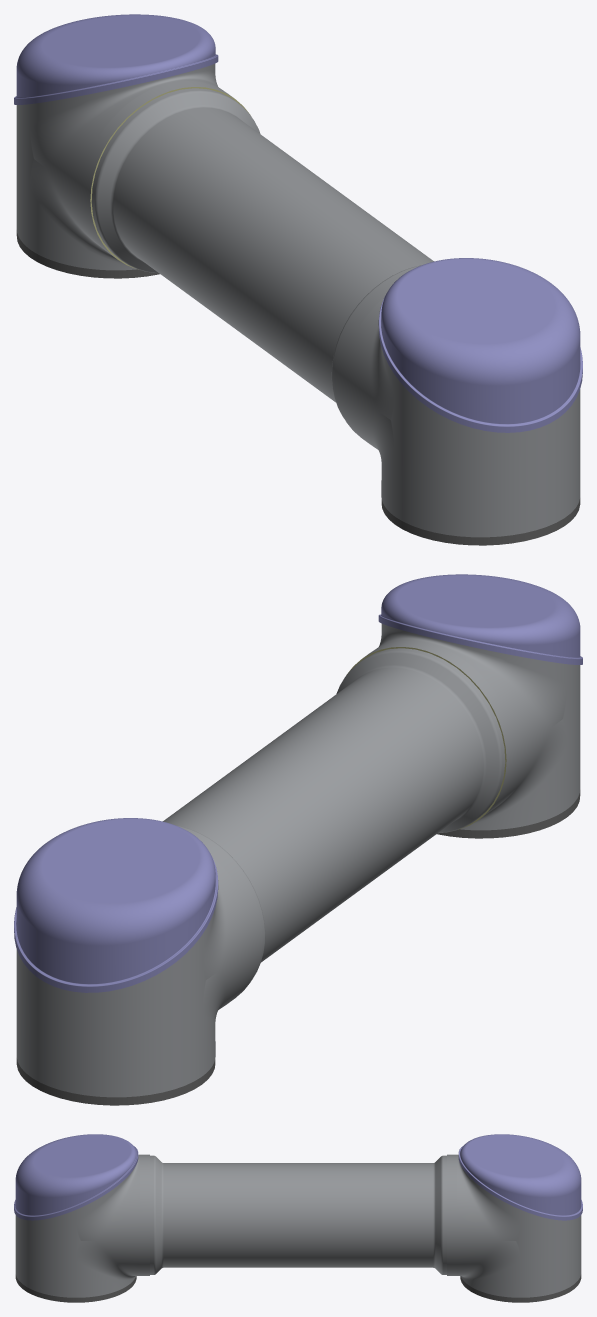
Rendered from UpperArm.fbx.
3 views of the same model, one above another, from view 1: azimuth 30°, elevation 25°; view 2: azimuth 150°, elevation 25°; view 3: azimuth 270°, elevation 25° (orthographic). The views are drawn at different scales.
Parts seen in each view (by area): view 1: Actor3, Actor0, Actor4, Actor2, Actor1; view 2: Actor3, Actor2, Actor1, Actor0, Actor4; view 3: Actor3, Actor0, Actor2, Actor4, Actor1.
Part boxes in pixels (x1=…): Actor3: x1=91, y1=88, x2=433, y2=418; Actor0: x1=334, y1=272, x2=580, y2=545; Actor4: x1=378, y1=258, x2=582, y2=432; Actor2: x1=16, y1=64, x2=250, y2=278; Actor1: x1=14, y1=14, x2=218, y2=104; Actor3: x1=163, y1=648, x2=505, y2=979; Actor2: x1=16, y1=832, x2=262, y2=1105; Actor1: x1=14, y1=818, x2=218, y2=992; Actor0: x1=346, y1=624, x2=580, y2=838; Actor4: x1=378, y1=574, x2=582, y2=664; Actor3: x1=150, y1=1155, x2=446, y2=1274; Actor0: x1=15, y1=1154, x2=149, y2=1302; Actor2: x1=447, y1=1154, x2=581, y2=1302; Actor4: x1=14, y1=1134, x2=138, y2=1220; Actor1: x1=458, y1=1134, x2=582, y2=1220.
Bounding box in the file's own units: 11.9 × 13.37 × 54.4.
